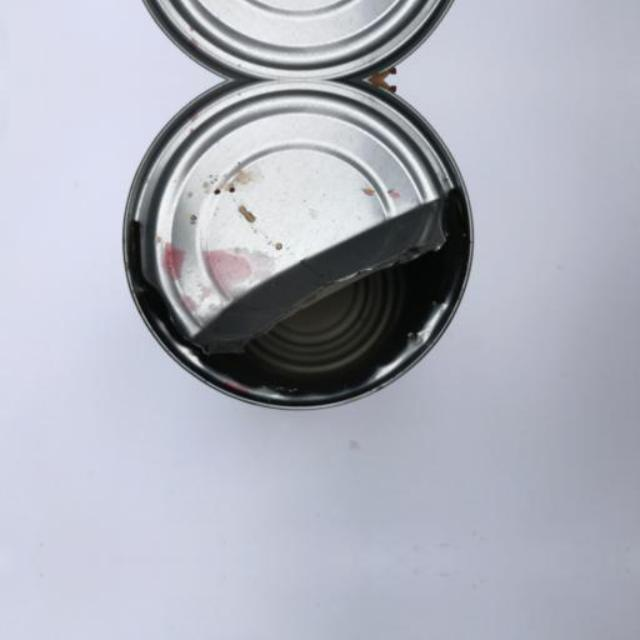Metal: (56, 84, 496, 402), (56, 0, 496, 76)
